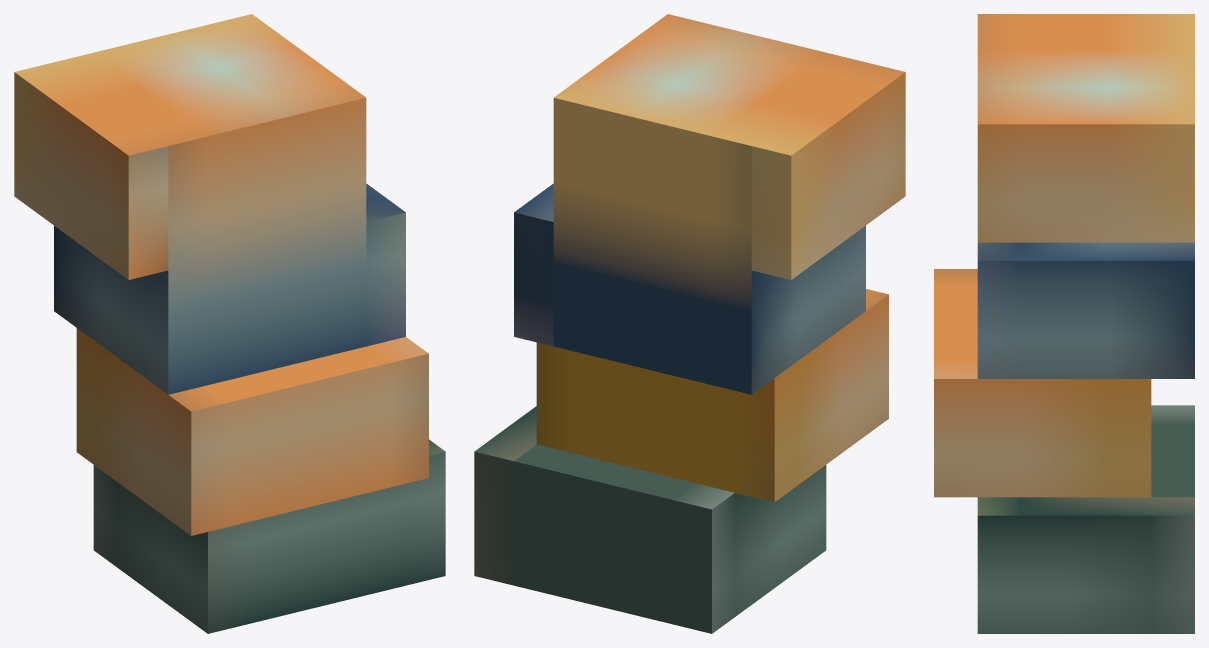
File: BookStackTaller_A_00.fbx
3 views of the same model, side by side, from view 1: azimuth 30°, elevation 25°; view 2: azimuth 150°, elevation 25°; view 3: azimuth 270°, elevation 25° (orthographic). The views are drawn at different scales.
Parts seen in each view (by area): view 1: BookStackTaller_A_00; view 2: BookStackTaller_A_00; view 3: BookStackTaller_A_00.
Part boxes in pixels (bbox=[...]): BookStackTaller_A_00: bbox=[14, 14, 445, 633]; BookStackTaller_A_00: bbox=[474, 14, 905, 633]; BookStackTaller_A_00: bbox=[934, 14, 1194, 633].
Size of the model in its own units: 40 by 30 by 60.
Materials: 1 (1 with a texture image).
